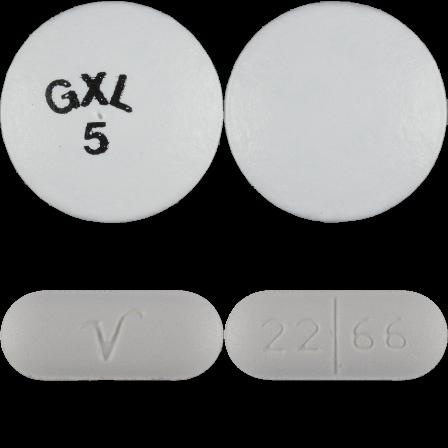60760-394: (0, 0, 224, 224)
